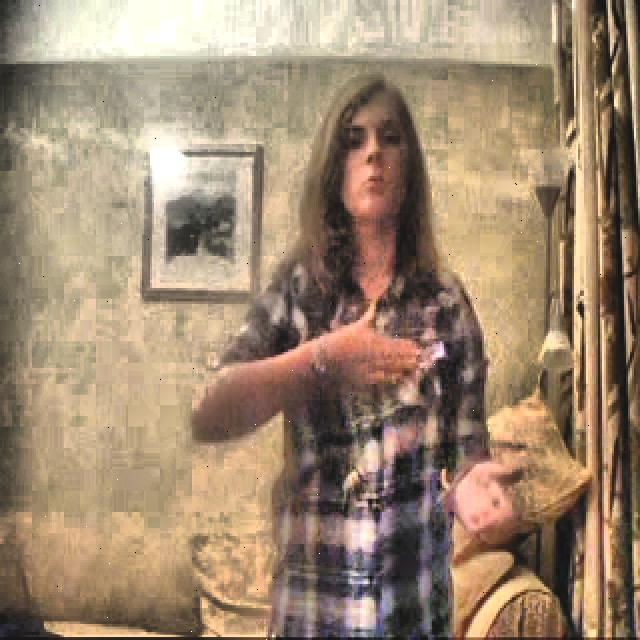F: (190, 66, 528, 640)
